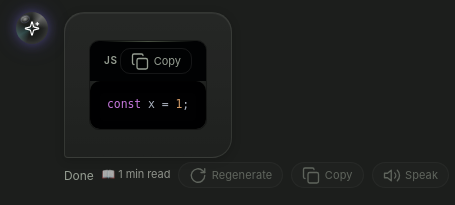
Test: MessageBubble markdown renderer › code block copy button copies code and shows feedback
The image size is (455, 205).
Click the button "Copy" next to "js" at (156,61), box [120, 48, 192, 74]
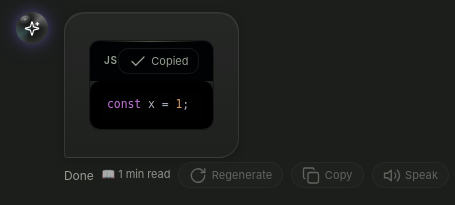
Expected: the button "Copied" is shown, [118, 48, 200, 74]
